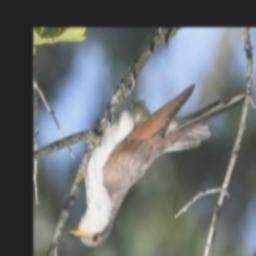Cuckoo: (68, 84, 211, 247)
